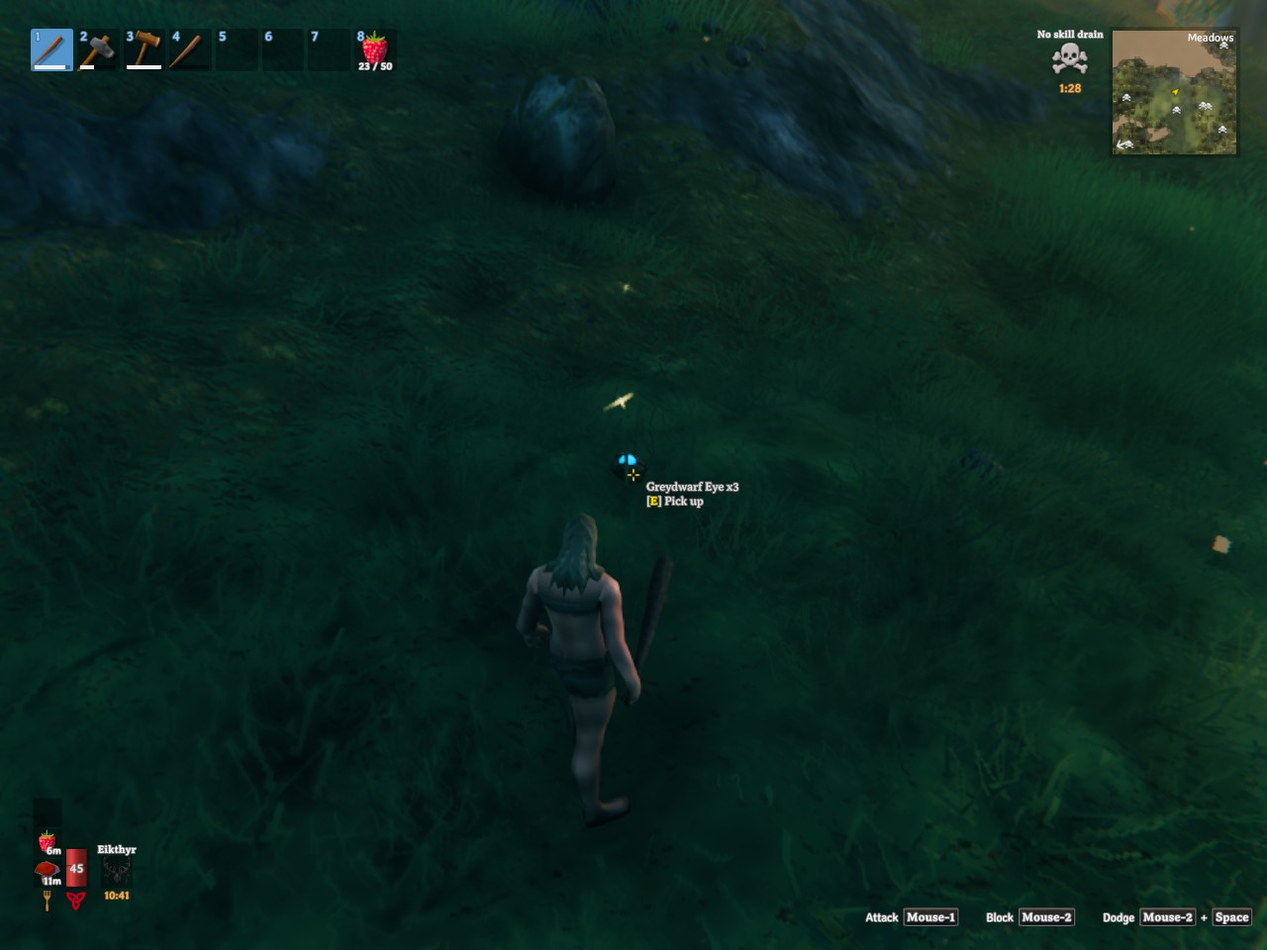Club: (637, 571, 675, 686)
Food Indicator: (36, 829, 63, 891)
Greydwarf Eye: (612, 452, 645, 483), (627, 449, 648, 477)
Health Bar: (63, 845, 90, 891)
Hotbar: (25, 21, 398, 78)
Status Indicator: (1029, 25, 1110, 103)
